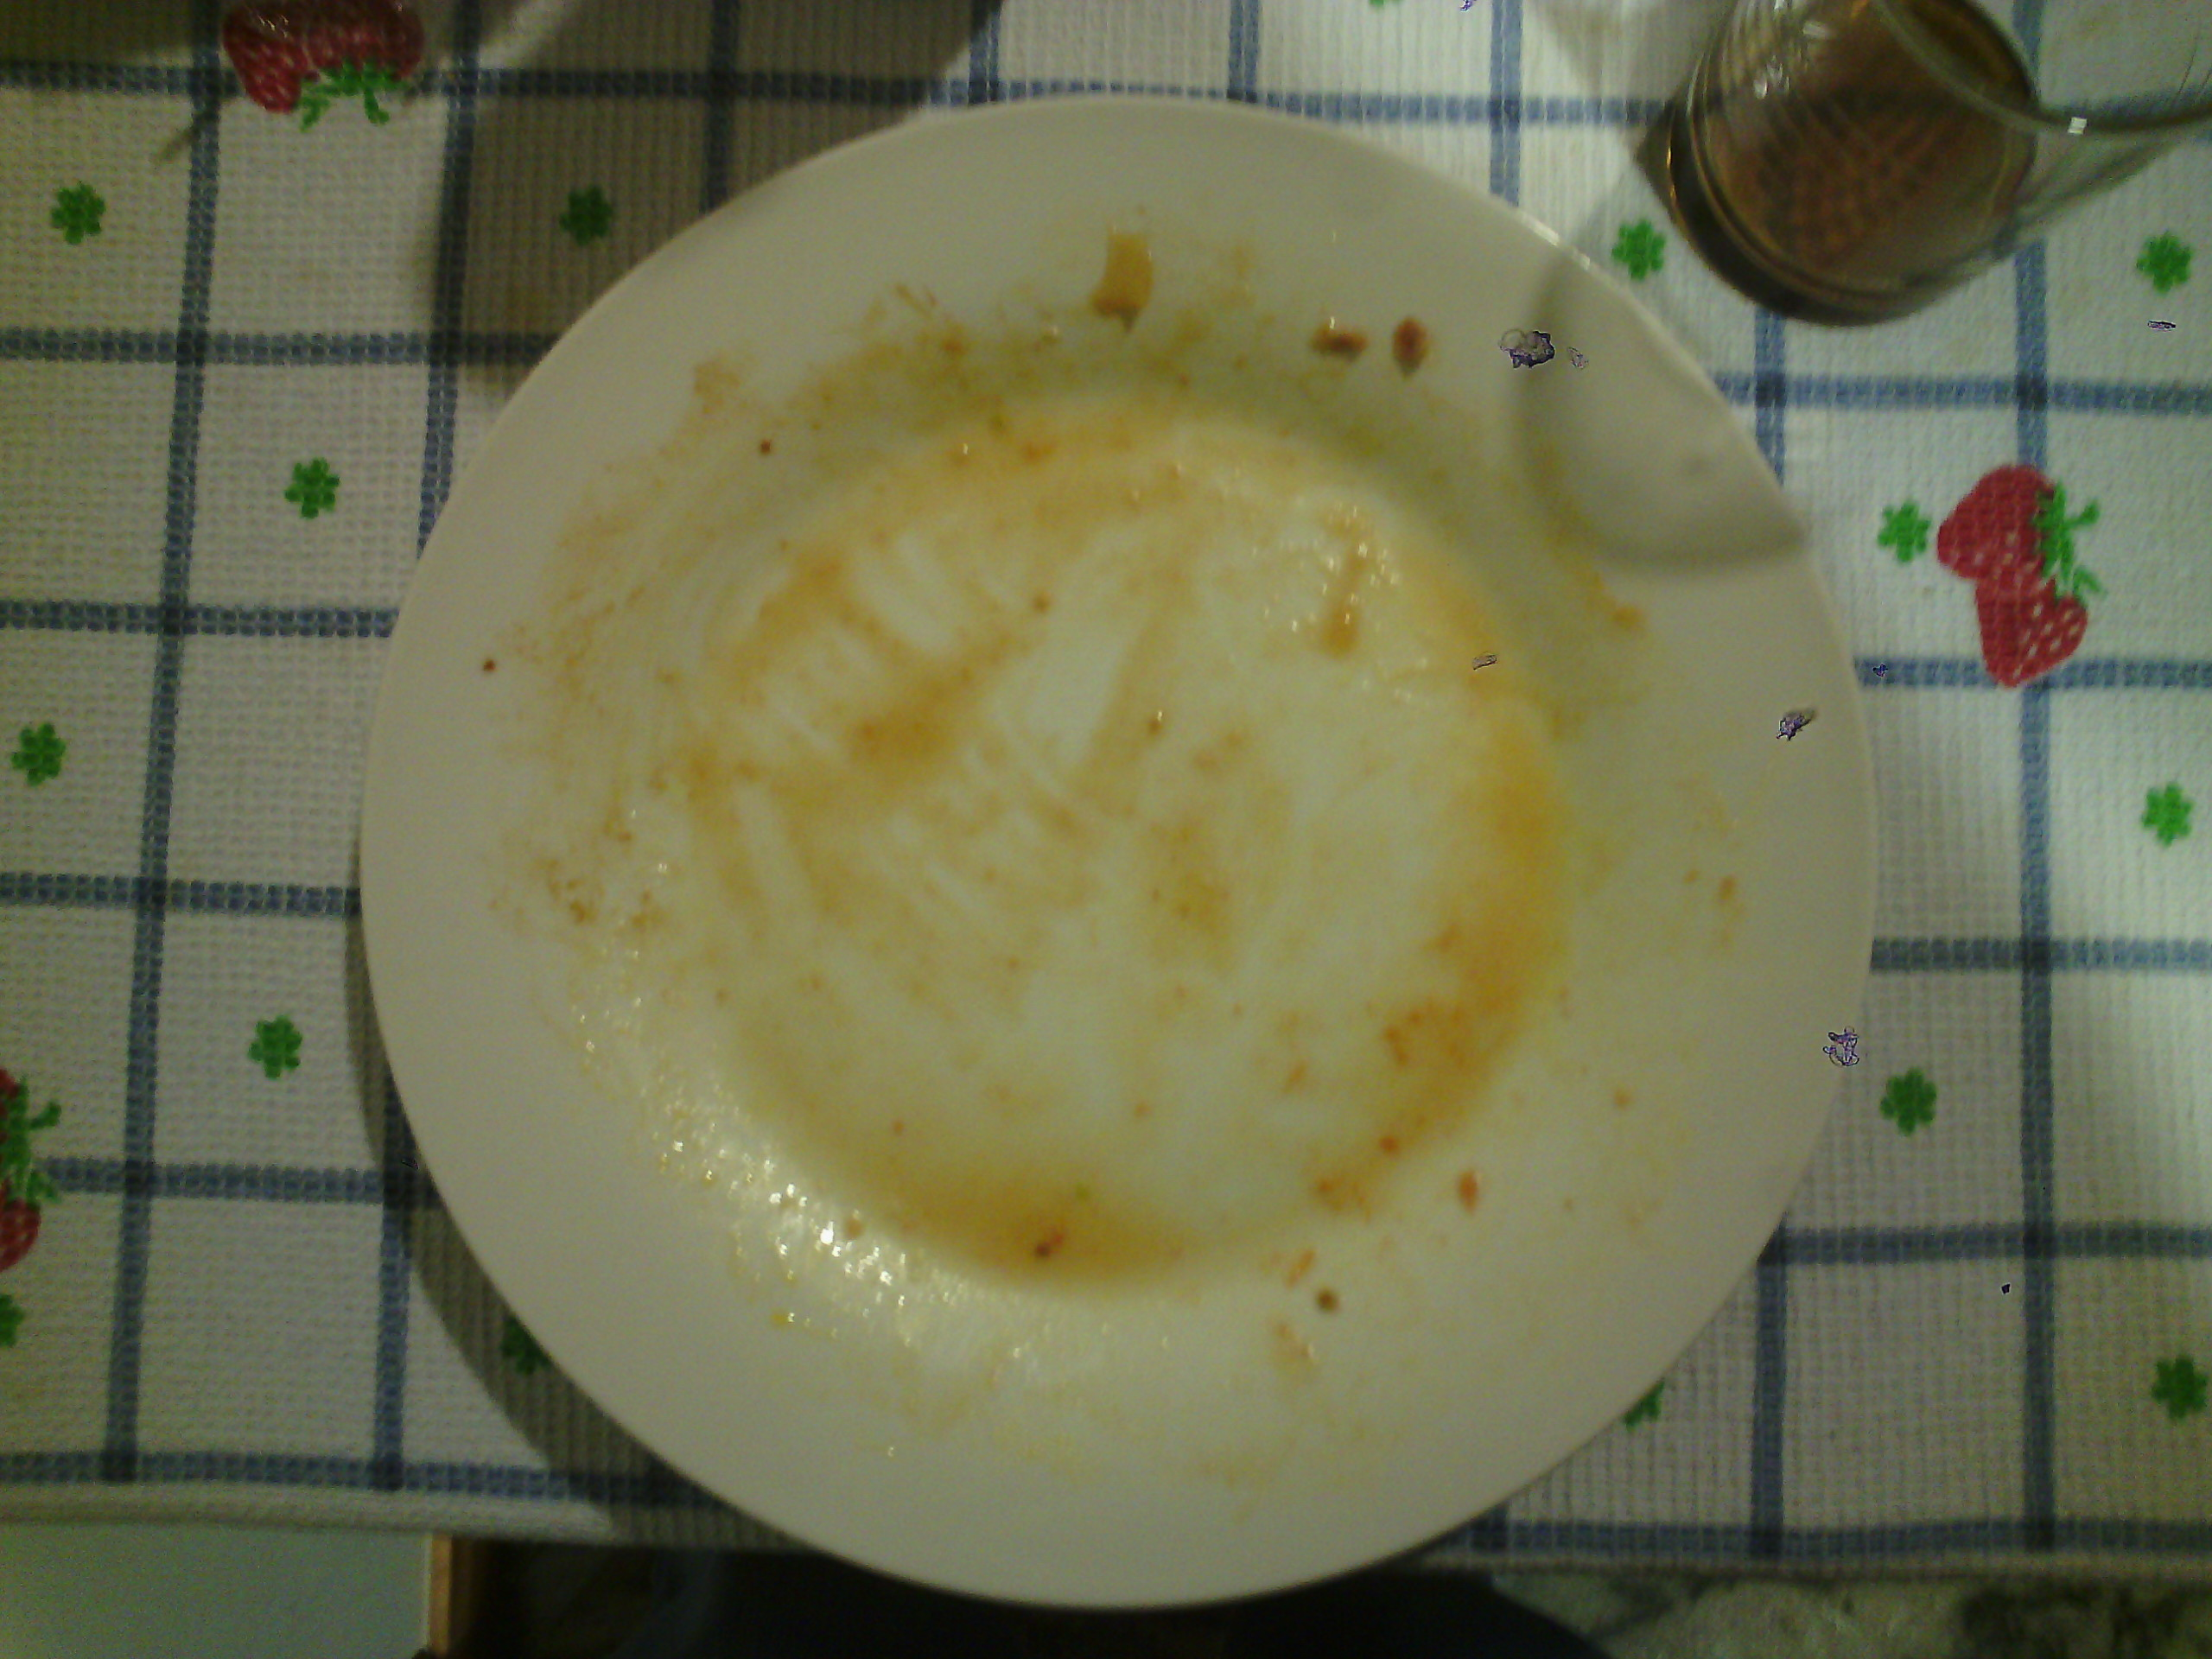0-20: (354, 94, 1888, 1615)
